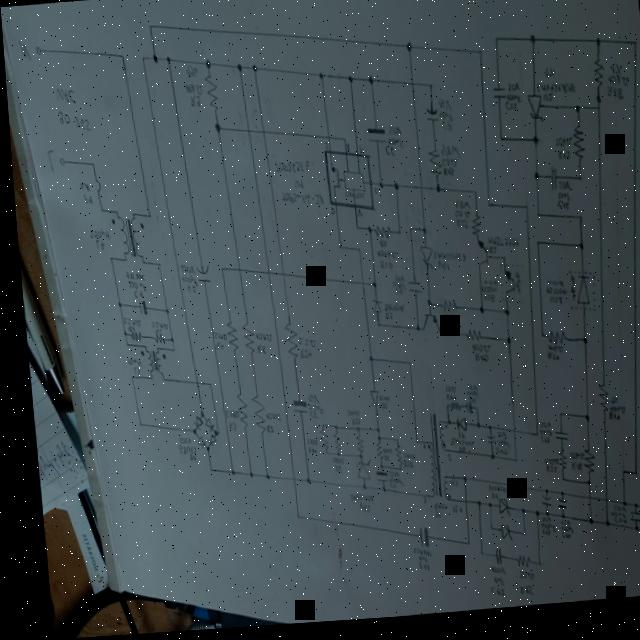capacitor: (362, 129, 382, 150), (190, 266, 205, 286), (284, 402, 300, 418), (544, 171, 553, 199), (408, 529, 418, 554), (421, 112, 436, 128), (401, 284, 416, 300), (618, 518, 633, 532), (366, 473, 379, 489), (488, 93, 503, 106), (545, 437, 559, 449), (531, 501, 543, 515), (484, 552, 492, 572), (132, 301, 141, 317), (547, 504, 558, 517), (456, 406, 464, 420), (477, 439, 487, 450)
crossover: (503, 433, 508, 441), (407, 86, 412, 93), (283, 478, 287, 486), (354, 283, 358, 291), (257, 131, 262, 137), (275, 274, 280, 280), (414, 190, 419, 196), (232, 269, 236, 276), (322, 138, 326, 145), (243, 131, 247, 137), (261, 273, 265, 279), (454, 504, 458, 510), (578, 502, 582, 508), (188, 382, 192, 388), (594, 505, 598, 510)
diode: (413, 250, 429, 275), (346, 462, 363, 485), (488, 503, 501, 524), (361, 392, 373, 413), (489, 529, 502, 548), (364, 302, 375, 319), (447, 421, 458, 438), (196, 420, 206, 435), (185, 418, 195, 432), (188, 436, 198, 450), (198, 435, 208, 448)
junction: (527, 141, 536, 153), (202, 60, 209, 74), (526, 41, 533, 53), (403, 47, 410, 59), (211, 124, 218, 136), (387, 186, 394, 197), (233, 65, 240, 76), (429, 189, 436, 200), (471, 310, 478, 320), (149, 55, 156, 65), (360, 230, 367, 240), (528, 178, 535, 188), (364, 80, 370, 91), (344, 78, 350, 89), (162, 57, 169, 66), (574, 343, 580, 353), (249, 66, 255, 76), (145, 24, 151, 34), (498, 342, 504, 352), (575, 420, 581, 429), (360, 358, 366, 367), (255, 475, 261, 484), (116, 53, 122, 62), (420, 304, 426, 313), (573, 249, 578, 259), (593, 45, 598, 55), (494, 260, 501, 267), (591, 112, 598, 119), (452, 481, 458, 489), (577, 524, 583, 532), (239, 474, 245, 482), (365, 285, 371, 293), (424, 87, 430, 95), (524, 437, 530, 445), (477, 507, 483, 515), (524, 516, 530, 524), (373, 185, 379, 193), (497, 314, 502, 323), (315, 76, 320, 85), (466, 505, 471, 514), (405, 442, 410, 451), (416, 231, 421, 240), (408, 329, 413, 338), (571, 112, 576, 120), (594, 527, 599, 535), (494, 141, 499, 149), (530, 218, 535, 226), (214, 267, 219, 275), (296, 480, 301, 488), (481, 458, 486, 466), (491, 41, 496, 49), (551, 482, 556, 490), (512, 535, 517, 543), (533, 337, 537, 346), (576, 486, 581, 493), (399, 365, 404, 372), (103, 256, 108, 263), (350, 250, 355, 257), (349, 228, 354, 235), (164, 348, 169, 355), (138, 56, 143, 63), (612, 508, 617, 515), (519, 211, 524, 218), (403, 231, 408, 238), (370, 467, 375, 474), (630, 48, 634, 56), (573, 221, 577, 229), (468, 194, 472, 202), (469, 555, 473, 563), (511, 513, 515, 521), (392, 233, 396, 241), (111, 302, 115, 310), (530, 246, 534, 254), (192, 412, 196, 420), (353, 487, 357, 495), (468, 427, 472, 435), (368, 438, 372, 446), (94, 208, 99, 214), (478, 531, 483, 537), (438, 424, 443, 430), (142, 214, 146, 221), (573, 182, 577, 189), (221, 472, 225, 479), (151, 262, 155, 269), (481, 207, 485, 214), (475, 56, 479, 63), (456, 545, 460, 552), (624, 477, 628, 484), (332, 248, 336, 255), (158, 309, 162, 316), (197, 447, 201, 454), (184, 430, 188, 437), (163, 338, 167, 345), (550, 521, 555, 526), (325, 429, 330, 434), (349, 458, 354, 463), (86, 161, 90, 167), (130, 422, 134, 428), (612, 477, 616, 483), (527, 568, 531, 574), (550, 419, 554, 425), (286, 517, 290, 523), (200, 468, 204, 474), (369, 327, 373, 333), (201, 383, 205, 389), (205, 432, 209, 438), (372, 491, 376, 497), (624, 534, 628, 540), (624, 510, 628, 516), (504, 463, 508, 469), (368, 431, 372, 437), (348, 430, 352, 436), (466, 412, 470, 418), (479, 430, 483, 436), (118, 258, 122, 264), (110, 210, 114, 216), (208, 432, 212, 438), (550, 498, 554, 503), (535, 518, 539, 523), (142, 377, 146, 382), (136, 346, 140, 351), (123, 376, 126, 382), (535, 495, 538, 501), (117, 332, 120, 338), (136, 261, 139, 267), (327, 456, 331, 460), (390, 471, 393, 476), (437, 409, 440, 414), (154, 378, 157, 383), (118, 343, 121, 348), (316, 454, 319, 458), (338, 142, 341, 146), (387, 443, 390, 447), (149, 348, 152, 352), (127, 213, 130, 217), (313, 426, 315, 430)
resistor: (242, 398, 259, 439), (566, 131, 582, 169), (201, 77, 216, 117), (276, 325, 292, 362), (234, 324, 249, 358), (228, 395, 241, 433), (588, 64, 602, 98), (218, 323, 232, 356), (422, 154, 437, 181), (588, 389, 601, 418), (573, 455, 586, 481), (540, 336, 560, 352), (367, 230, 387, 245), (464, 220, 477, 243), (458, 335, 476, 349), (434, 304, 451, 318), (385, 447, 394, 471), (505, 561, 521, 574), (311, 432, 320, 454), (346, 437, 355, 458), (549, 458, 558, 478), (146, 334, 159, 347), (324, 436, 332, 456), (123, 331, 136, 343), (440, 406, 452, 418), (367, 446, 374, 466)
terminal: (54, 156, 61, 168), (33, 45, 39, 56), (640, 535, 640, 545), (640, 512, 640, 523)
text: (275, 191, 319, 213), (54, 108, 87, 136), (532, 87, 573, 105), (270, 161, 306, 179), (426, 253, 461, 270), (481, 241, 512, 256), (51, 86, 72, 107), (15, 38, 30, 63), (478, 487, 501, 502), (603, 81, 626, 96), (83, 227, 104, 243), (339, 496, 364, 509), (375, 305, 398, 319), (441, 441, 464, 455), (181, 83, 200, 99), (603, 91, 620, 108), (436, 149, 454, 165), (41, 148, 52, 174), (539, 292, 561, 305), (120, 270, 139, 284), (339, 192, 359, 205), (550, 143, 568, 157), (169, 445, 188, 458), (402, 550, 421, 563), (507, 575, 524, 589), (291, 338, 308, 352), (175, 275, 192, 289), (116, 316, 134, 329), (370, 254, 391, 265), (464, 347, 483, 359), (181, 66, 196, 81), (174, 263, 190, 277), (144, 320, 161, 333), (540, 283, 557, 296), (122, 281, 140, 293), (606, 70, 620, 85), (434, 316, 453, 327), (541, 301, 557, 314), (448, 203, 464, 216), (248, 334, 265, 346), (539, 349, 556, 361), (383, 142, 400, 154), (434, 103, 448, 117), (435, 115, 449, 129), (507, 590, 522, 603), (552, 156, 567, 169), (479, 569, 494, 582), (503, 99, 518, 112), (300, 406, 315, 419), (373, 262, 388, 275), (257, 413, 273, 425), (448, 214, 465, 225), (539, 73, 553, 86), (467, 356, 481, 369), (478, 591, 493, 603), (119, 357, 134, 369), (206, 332, 221, 344), (186, 96, 198, 111), (530, 528, 545, 540), (385, 284, 400, 296), (437, 162, 453, 173), (474, 290, 491, 300), (440, 508, 453, 521), (292, 350, 305, 363), (457, 393, 470, 406), (217, 410, 231, 422), (534, 462, 549, 473), (379, 480, 394, 491), (559, 457, 575, 467), (601, 412, 617, 422), (628, 549, 640, 562), (348, 505, 361, 517), (539, 357, 552, 369), (552, 198, 565, 210), (431, 265, 444, 277), (338, 411, 352, 422), (599, 517, 616, 526), (423, 506, 438, 516), (550, 532, 565, 542), (501, 107, 513, 119), (451, 223, 463, 235), (476, 298, 488, 310), (384, 130, 397, 141), (288, 180, 299, 193), (503, 88, 516, 99), (488, 444, 501, 455), (603, 522, 616, 533), (438, 171, 449, 184), (553, 187, 566, 198), (78, 193, 88, 207), (393, 455, 407, 465), (437, 126, 448, 138), (323, 458, 335, 469), (299, 396, 311, 407), (407, 565, 419, 576), (380, 150, 391, 162), (552, 206, 563, 218), (436, 389, 448, 400), (89, 239, 99, 252), (530, 434, 543, 444), (477, 283, 490, 293), (169, 437, 183, 446), (487, 451, 498, 462), (482, 581, 493, 592), (458, 387, 469, 398), (600, 418, 612, 428), (75, 182, 85, 194), (219, 422, 229, 434), (536, 470, 548, 480), (531, 426, 543, 436), (603, 511, 615, 521), (297, 441, 310, 450), (530, 442, 541, 452), (249, 347, 259, 358), (561, 468, 572, 478), (436, 325, 446, 336), (539, 99, 550, 109), (629, 542, 640, 552), (437, 397, 448, 407), (394, 463, 404, 474), (370, 398, 382, 407), (378, 474, 390, 483), (127, 290, 137, 300), (342, 420, 352, 430), (601, 403, 611, 413), (482, 252, 492, 262), (372, 243, 382, 253), (377, 316, 387, 326), (551, 537, 560, 548), (387, 279, 398, 288), (208, 343, 217, 353), (180, 286, 190, 295), (299, 448, 308, 458), (300, 413, 309, 423), (407, 559, 417, 568), (448, 435, 457, 445), (460, 400, 468, 411), (125, 366, 133, 377), (488, 436, 497, 445), (531, 534, 540, 543), (325, 467, 333, 477), (550, 525, 560, 533), (148, 328, 156, 338), (440, 483, 448, 493), (373, 451, 383, 459), (351, 212, 358, 223), (258, 426, 265, 437), (424, 514, 431, 524), (120, 325, 128, 333), (449, 451, 457, 459), (389, 291, 396, 300), (412, 500, 417, 512), (180, 456, 187, 464), (481, 497, 488, 505), (531, 522, 540, 528), (373, 405, 379, 414), (437, 458, 443, 467), (636, 501, 640, 514), (354, 149, 359, 159), (375, 457, 380, 467), (368, 191, 374, 199), (380, 486, 386, 494), (325, 210, 330, 219), (319, 145, 324, 154), (342, 146, 346, 156), (435, 426, 439, 435), (412, 448, 416, 456)
thyristor: (522, 100, 540, 131)
transformer: (415, 414, 441, 507), (105, 214, 142, 263), (134, 350, 159, 377)
transistor: (412, 314, 432, 339), (469, 245, 483, 273)
